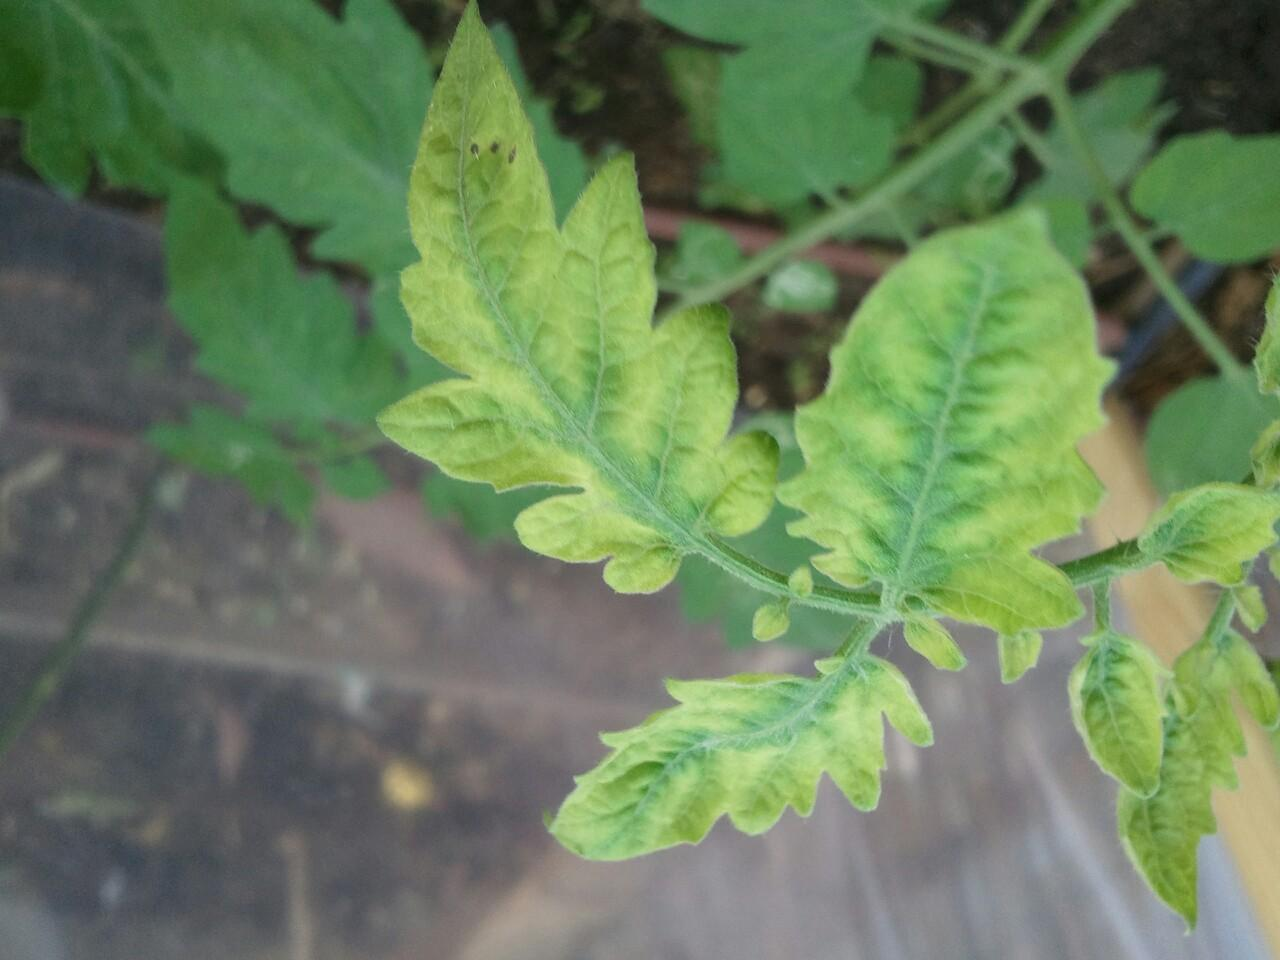Tomato leaf yellow virus: (399, 0, 776, 605), (799, 147, 1131, 617), (491, 634, 924, 883), (1104, 643, 1268, 942), (1059, 630, 1161, 808)
